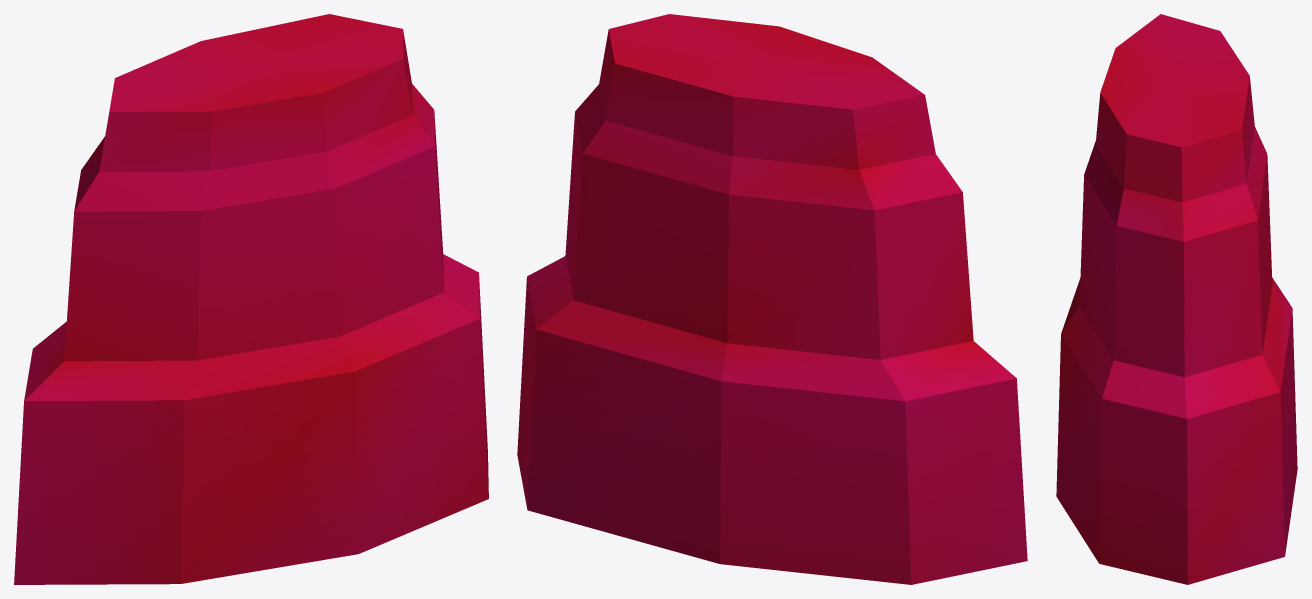
File: Mesa_Back_03.glb
3 views of the same model, side by side, from view 1: azimuth 30°, elevation 25°; view 2: azimuth 150°, elevation 25°; view 3: azimuth 270°, elevation 25° (orthographic). The views are drawn at different scales.
Parts seen in each view (by area): view 1: Mesa_Back_03; view 2: Mesa_Back_03; view 3: Mesa_Back_03.
Boxes of the visible parts, box(x1,y1,x2,y2) form: Mesa_Back_03: box(14, 14, 488, 584); Mesa_Back_03: box(517, 14, 1027, 584); Mesa_Back_03: box(1056, 14, 1297, 584).
Bounding box in the file's own units: 40.47 × 35.01 × 19.17.
